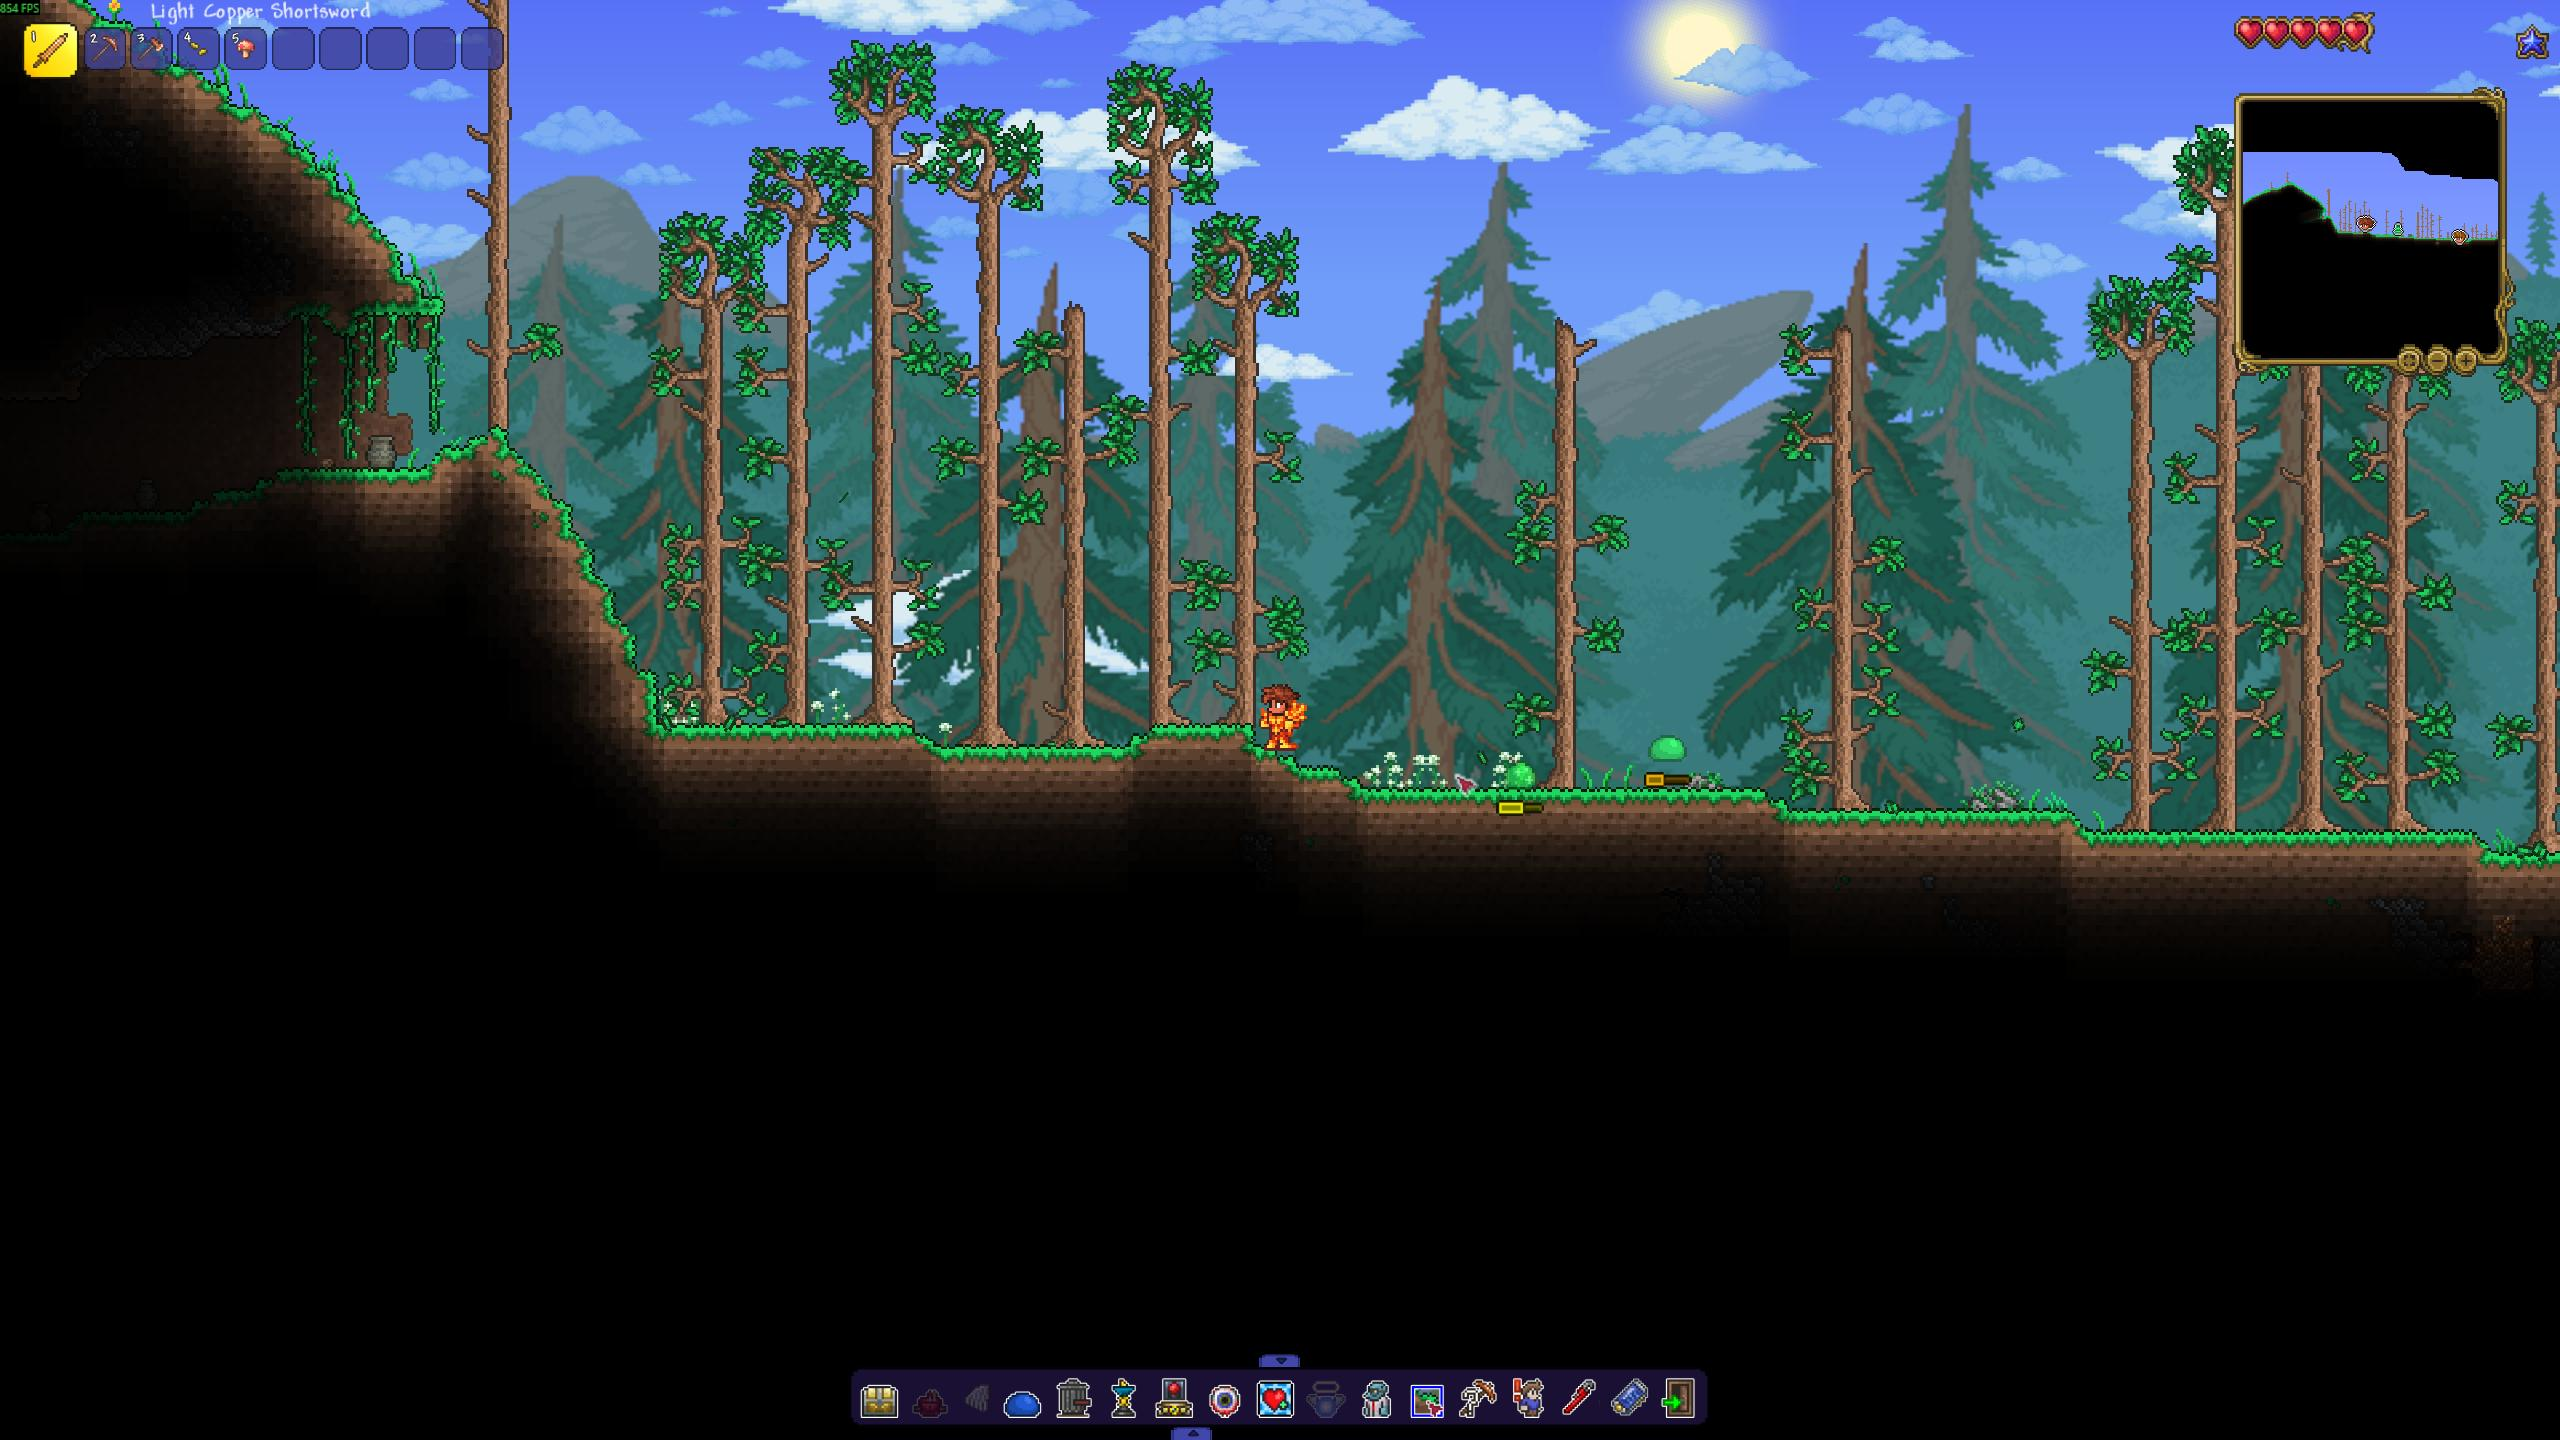Green Slime: (1500, 761, 1538, 795), (1646, 735, 1691, 763)
